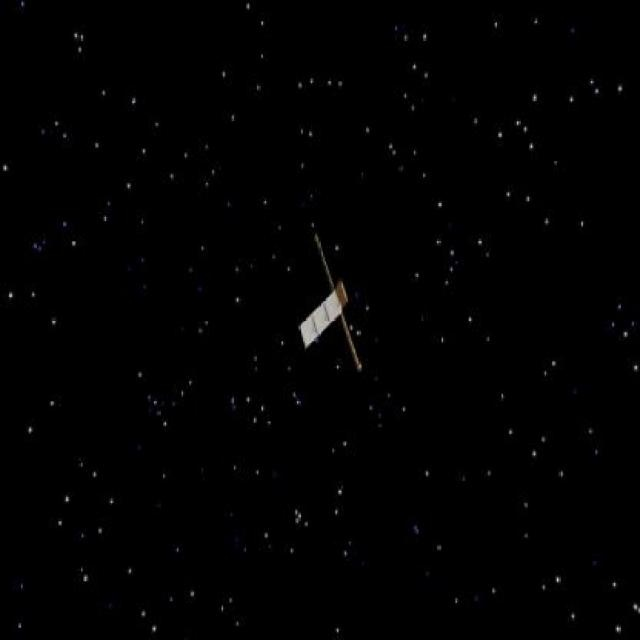medium_debris: (290, 221, 372, 381)
